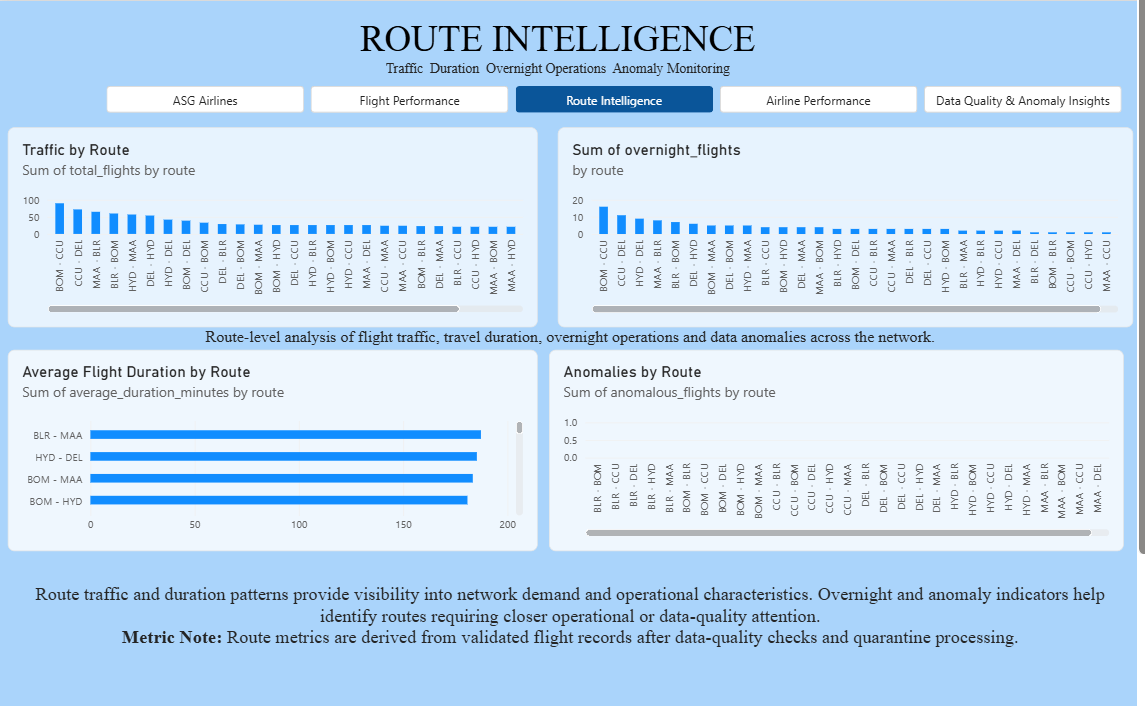

This screenshot's page, from the dashboard's own definition file:
{"tool":"powerbi","page":{"name":"Route Intelligence","canvas":[1920,1080],"ordinal":2},"visuals":[{"type":"textbox","box":[10.1,0,1275.4,108.7],"z":0},{"type":"clusteredColumnChart","title":"Traffic by Route","fields":{"Category":["route_kpis.route"],"Y":["Sum(route_kpis.total_flights)"]},"box":[10.1,146.4,614.5,231.9],"z":1000},{"type":"clusteredBarChart","title":"Average Flight Duration by Route","fields":{"Category":["route_kpis.route"],"Y":["Sum(route_kpis.average_duration_minutes)"]},"box":[10.1,404.3,614.5,233.3],"z":2000},{"type":"clusteredColumnChart","fields":{"Category":["route_kpis.route"],"Y":["Sum(route_kpis.overnight_flights)"]},"box":[647.8,146.4,667,232],"z":3000},{"type":"clusteredColumnChart","title":"Anomalies by Route","fields":{"Category":["route_kpis.route"],"Y":["Sum(route_kpis.anomalous_flights)"]},"box":[637.7,404.3,666.7,233.3],"z":4000},{"type":"textbox","box":[10.1,378.3,1304.3,400],"z":5000},{"type":"textbox","box":[1315,130,605,232],"z":6000},{"type":"textbox","box":[1315,404,605,233],"z":7000},{"type":"pageNavigator","box":[124.6,98.6,1179.7,31.9],"z":8000}]}

Visuals, with their boxes on the page's 1920x1080 design canvas (x1, y1, x2, y2). These are canvas units, not pixel positions in the 1145x706 screenshot, which may show the page scaled, cropped or inside an application window:
textbox: [10, 0, 1286, 109]
"Traffic by Route" clusteredColumnChart: [10, 146, 625, 378]
"Average Flight Duration by Route" clusteredBarChart: [10, 404, 625, 638]
clusteredColumnChart - route_kpis.route x Sum(route_kpis.overnight_flights): [648, 146, 1315, 378]
"Anomalies by Route" clusteredColumnChart: [638, 404, 1304, 638]
textbox: [10, 378, 1314, 778]
textbox: [1315, 130, 1920, 362]
textbox: [1315, 404, 1920, 637]
pageNavigator: [125, 99, 1304, 130]
